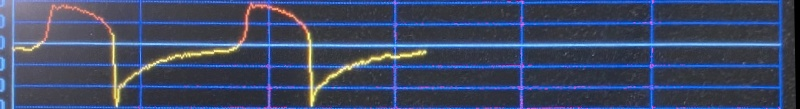normal_flow: (15, 0, 429, 109)
